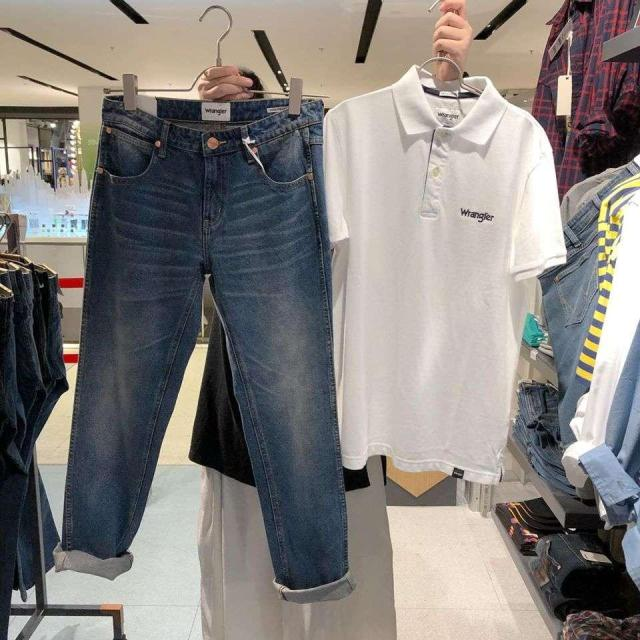Tshirt: (328, 70, 558, 477)
pants: (59, 99, 347, 598)
